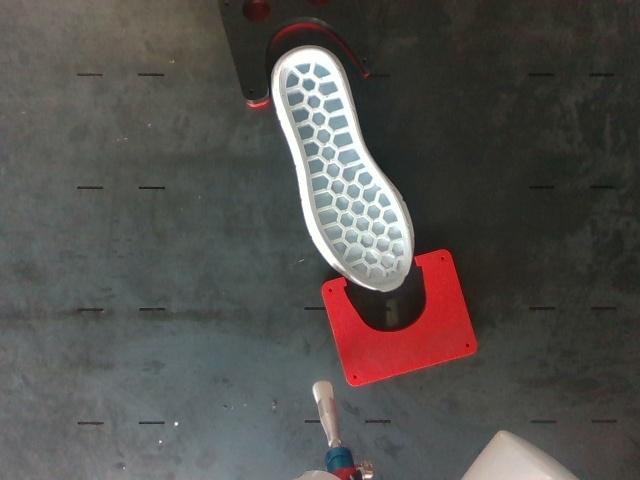shoes: (279, 50, 410, 290)
